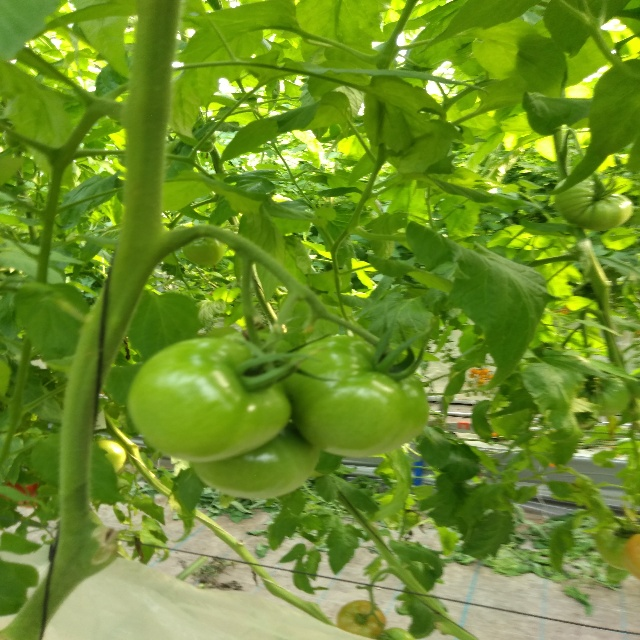b_green: (127, 337, 290, 464), (284, 335, 428, 458), (189, 422, 321, 500), (554, 174, 634, 231), (595, 521, 639, 570), (182, 237, 224, 266), (94, 439, 128, 474)
b_half_ripened: (336, 599, 386, 639), (622, 534, 640, 581)
